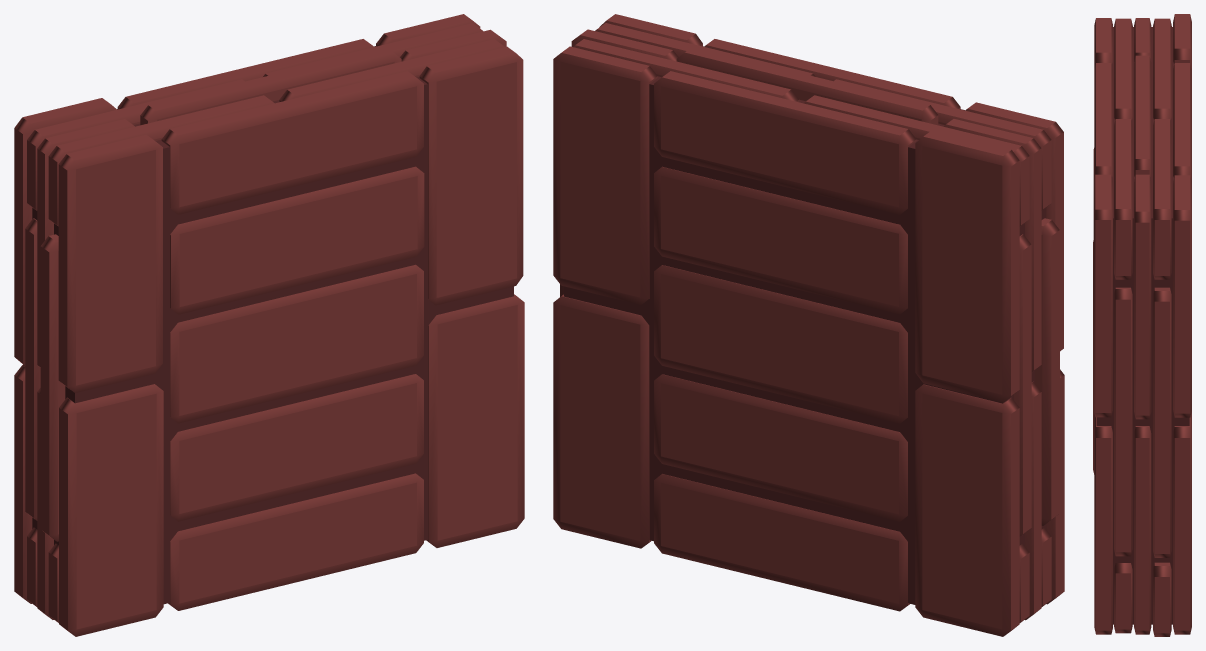
File: muret_ville.obj
The picture shows the model from 3 angles, left to right: view 1: azimuth 30°, elevation 25°; view 2: azimuth 150°, elevation 25°; view 3: azimuth 270°, elevation 25°; orthographic projection. The views are drawn at different scales.
Parts seen in each view (by area): view 1: piece_0, piece_1; view 2: piece_0, piece_1; view 3: piece_0, piece_1.
Boxes of the visible parts, x1,y1,x2,y2 form: piece_0: (14,14,524,636); piece_1: (23,46,513,604); piece_0: (553,14,1064,636); piece_1: (564,46,1046,604); piece_0: (1093,14,1191,636); piece_1: (1096,27,1189,624).
Bounding box in the file's own units: 0.98 × 0.98 × 0.2.
Materials: 2 (2 with a texture image).
